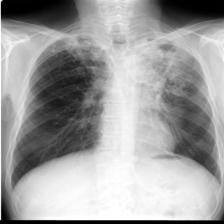tuberculosis: (8, 26, 224, 189)
